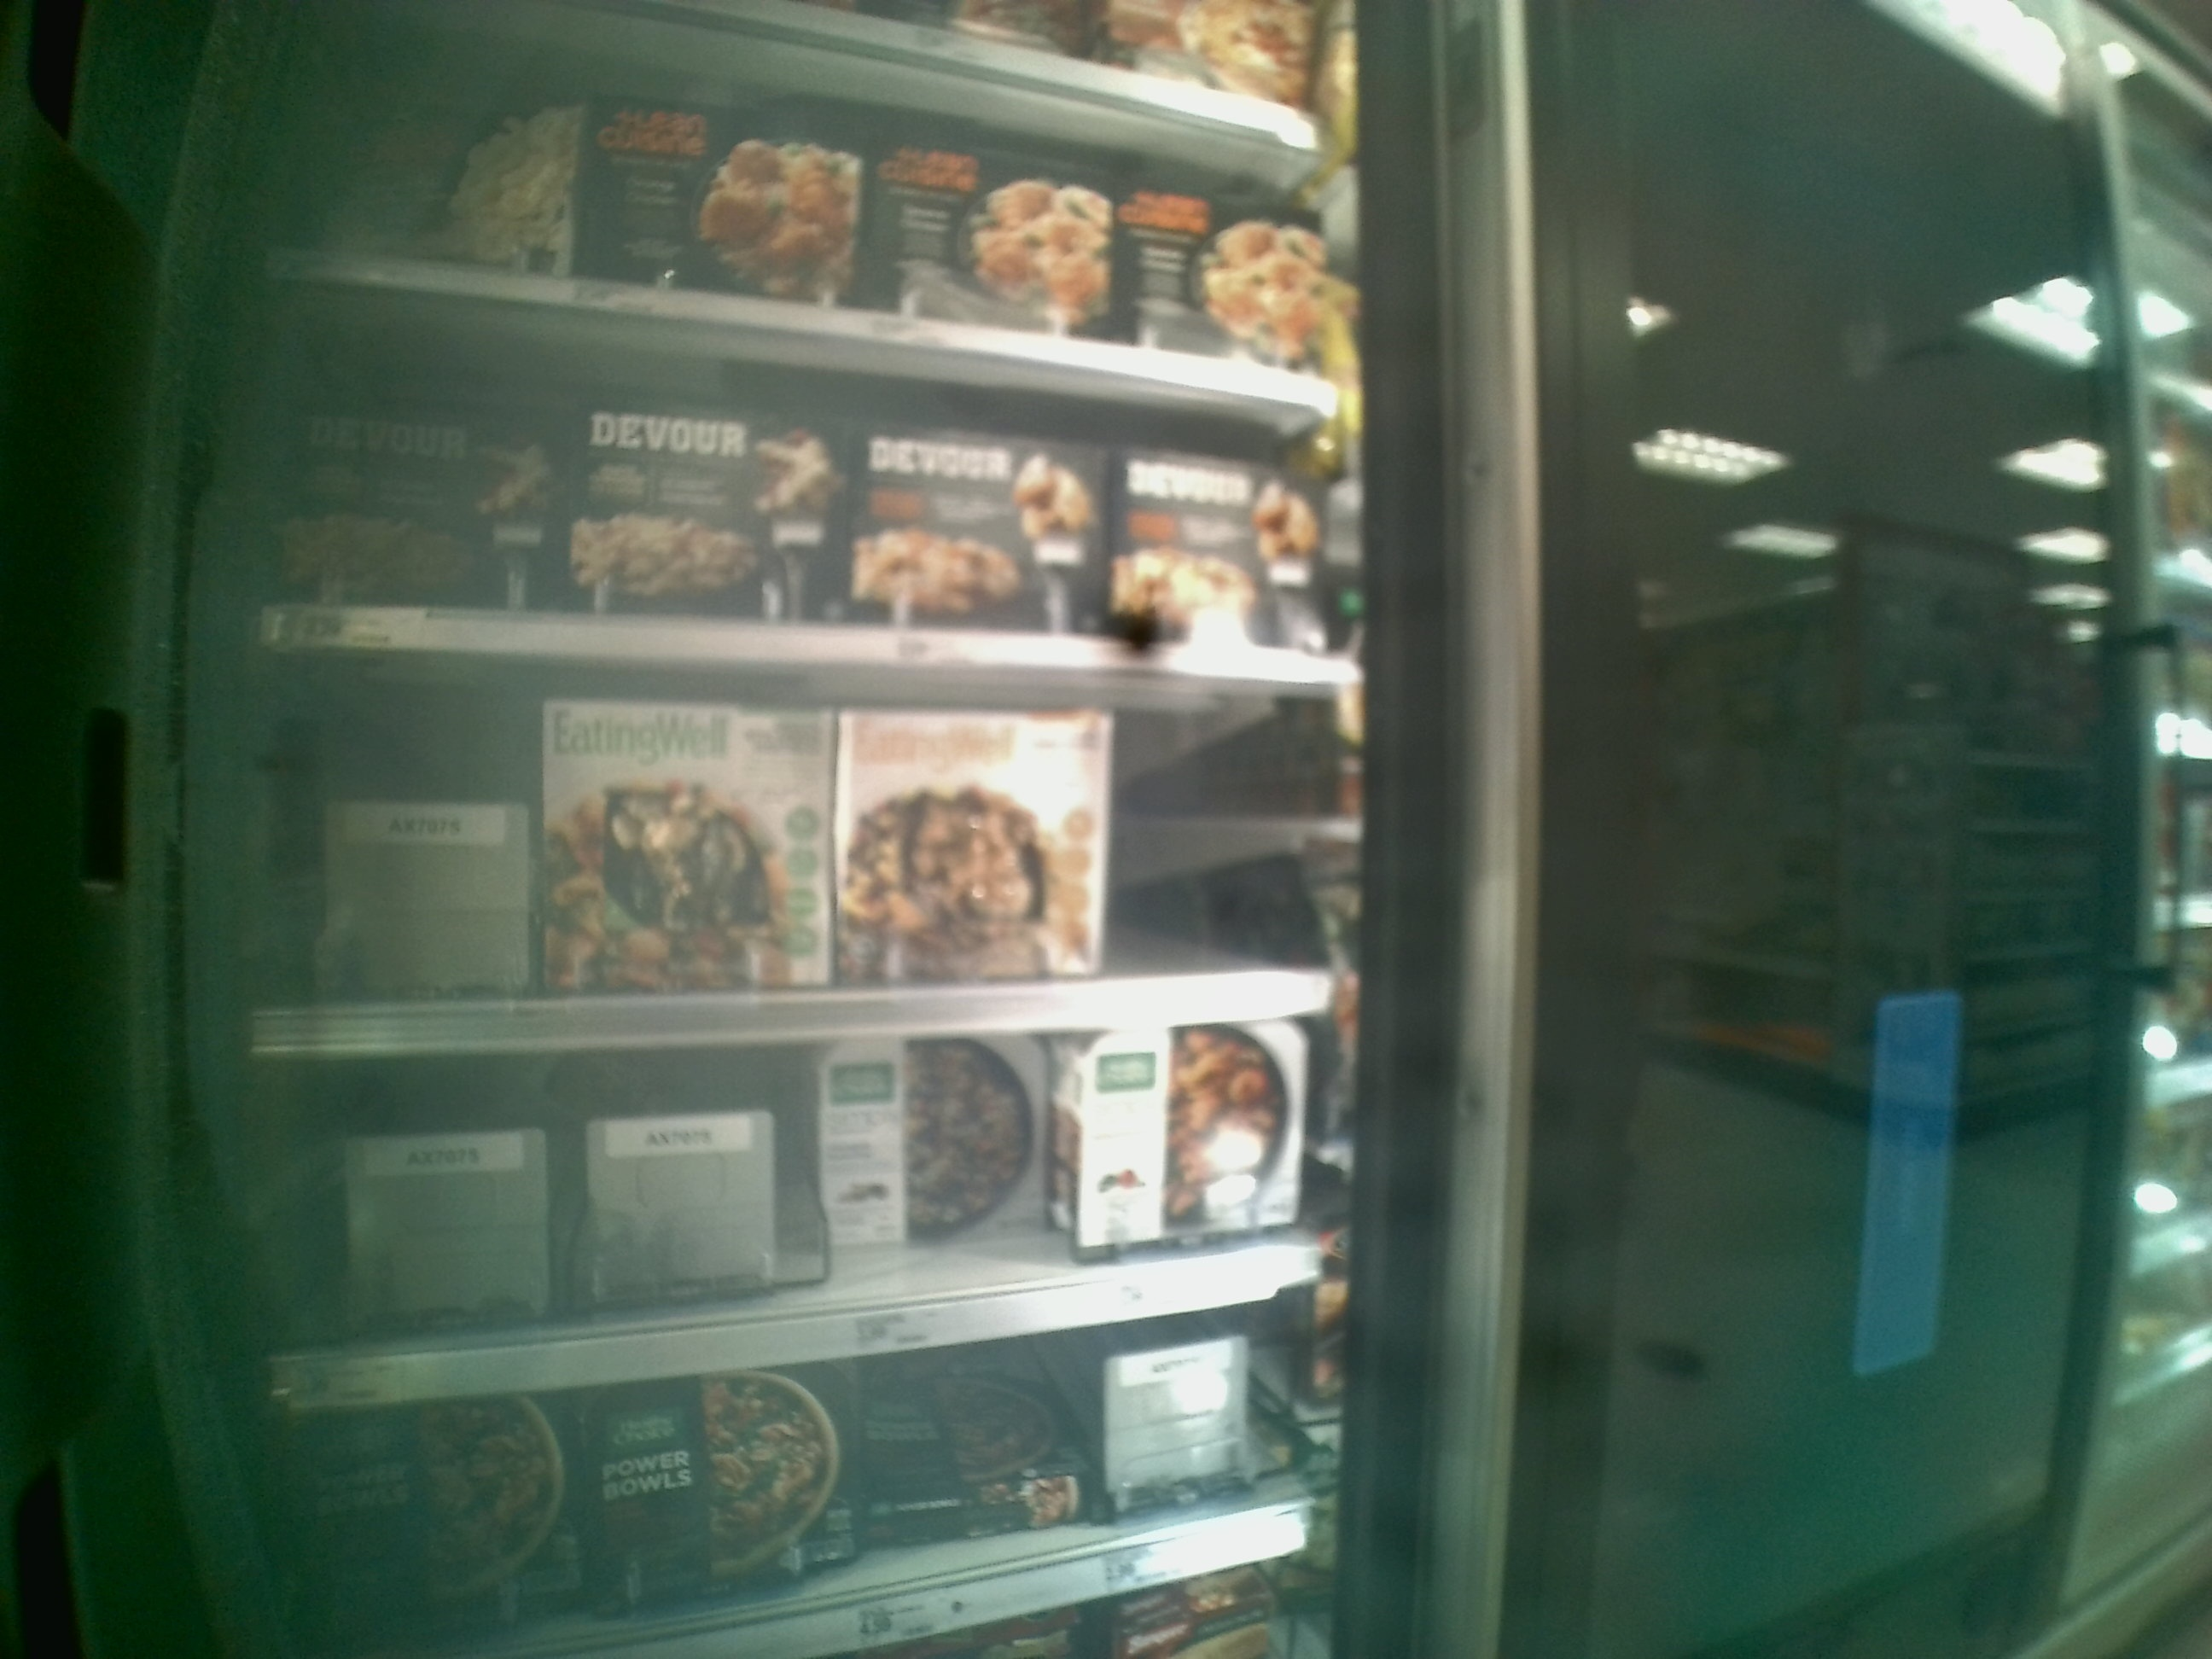shelf: (268, 254, 1350, 678), (240, 652, 1359, 1049)
